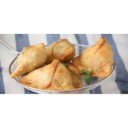samosa: (27, 60, 75, 92), (75, 38, 115, 76), (16, 40, 47, 75), (46, 38, 78, 62)
